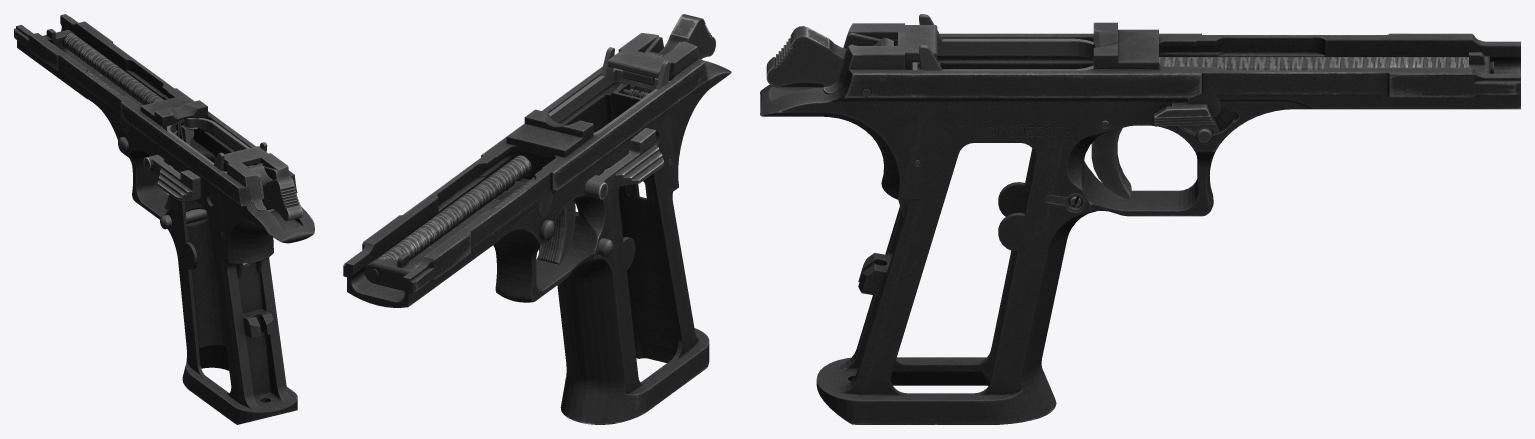
3 renders of one model, left to right at view 1: azimuth 30°, elevation 25°; view 2: azimuth 150°, elevation 25°; view 3: azimuth 270°, elevation 25°, orthographic. The views are drawn at different scales.
Parts seen in each view (by area): view 1: TW_669fa3f88abd2662d80eee77_PZ_Import; view 2: TW_669fa3f88abd2662d80eee77_PZ_Import; view 3: TW_669fa3f88abd2662d80eee77_PZ_Import.
Boxes of the visible parts, x1,y1,x2,y2 form: TW_669fa3f88abd2662d80eee77_PZ_Import: (14, 14, 314, 424); TW_669fa3f88abd2662d80eee77_PZ_Import: (343, 14, 731, 424); TW_669fa3f88abd2662d80eee77_PZ_Import: (760, 14, 1520, 424).
Size of the model in its own units: 0.0214 by 0.1306 by 0.0706.
Materials: 1 (1 with a texture image).
